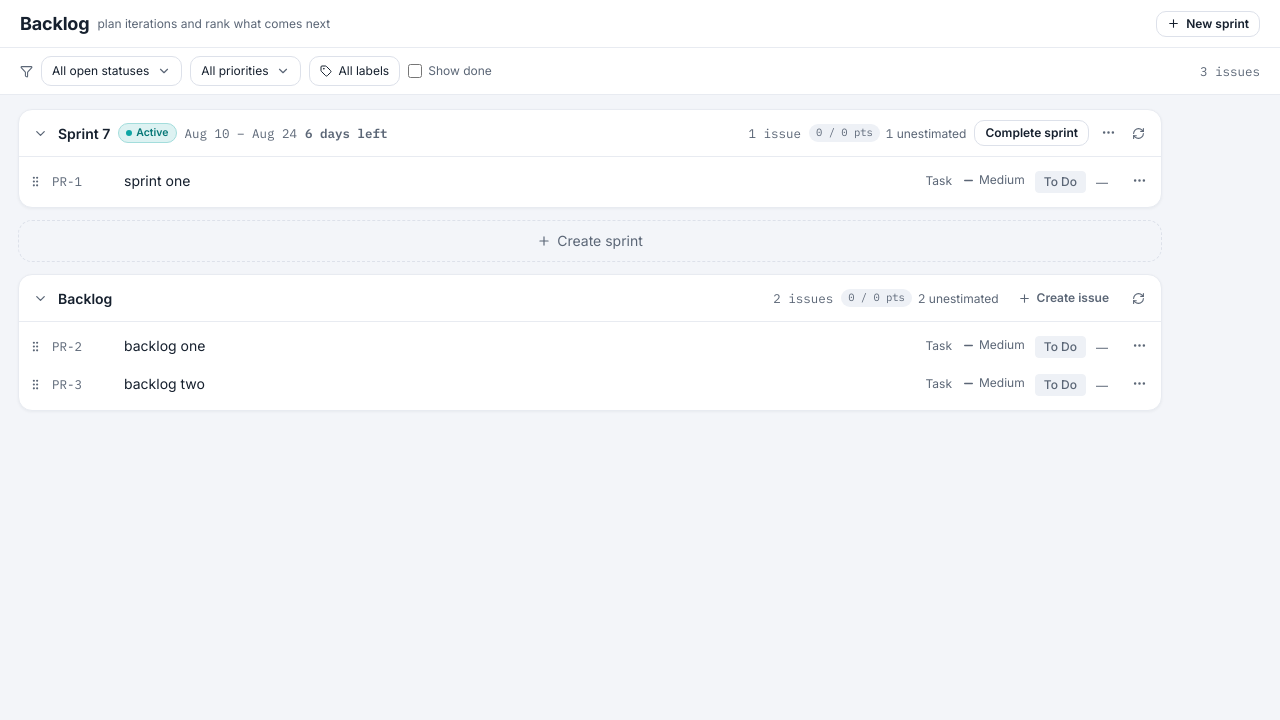
Test case: BacklogPage permission gates (HD-123 S5) › gives a full planner the grip, both kebab groups and a live create button
expect the text "Sprint 7" is shown: met, box [58,122,110,144]
expect the text "backlog one" is shown: met, box [124,337,205,354]
Click the button named "Move PR-2" at (1140, 346), box [1128,334,1151,357]
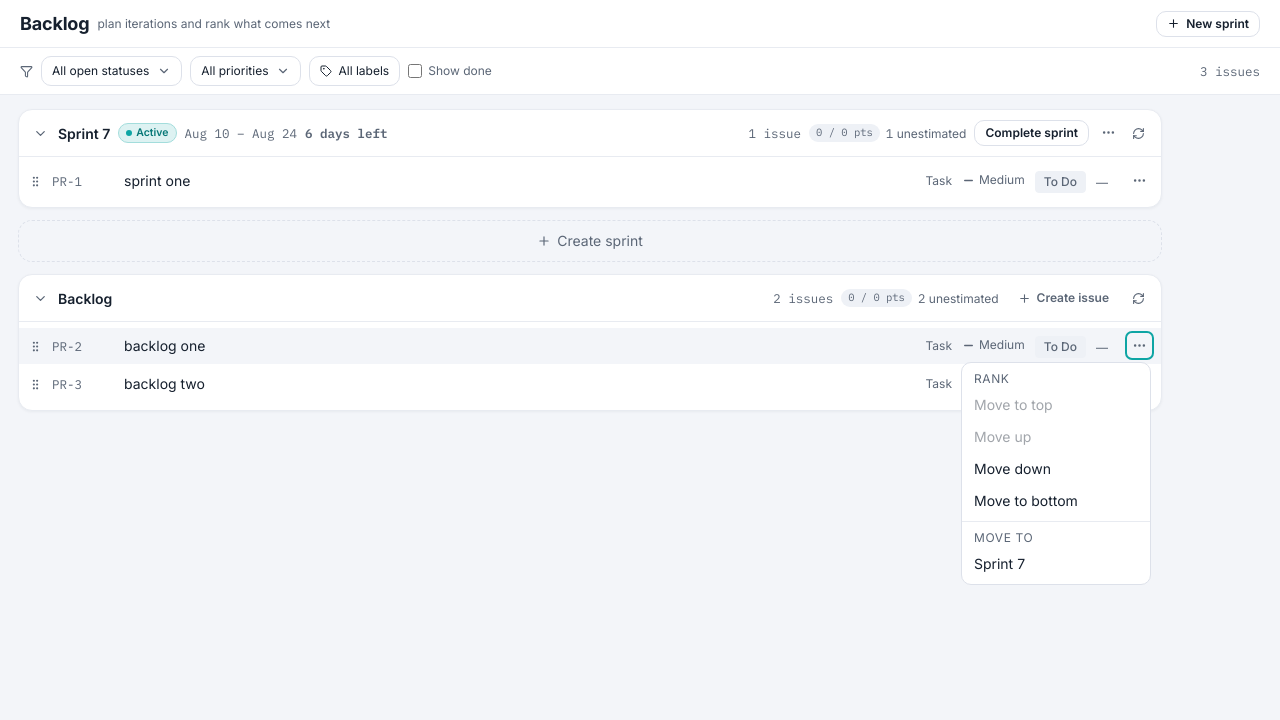
expect the text "Rank" is shown: met, box [974,371,1010,386]
expect the text "Move to" is shown: met, box [974,530,1033,545]
expect the menu item "Sprint 7" is shown: met, box [962,548,1150,580]
